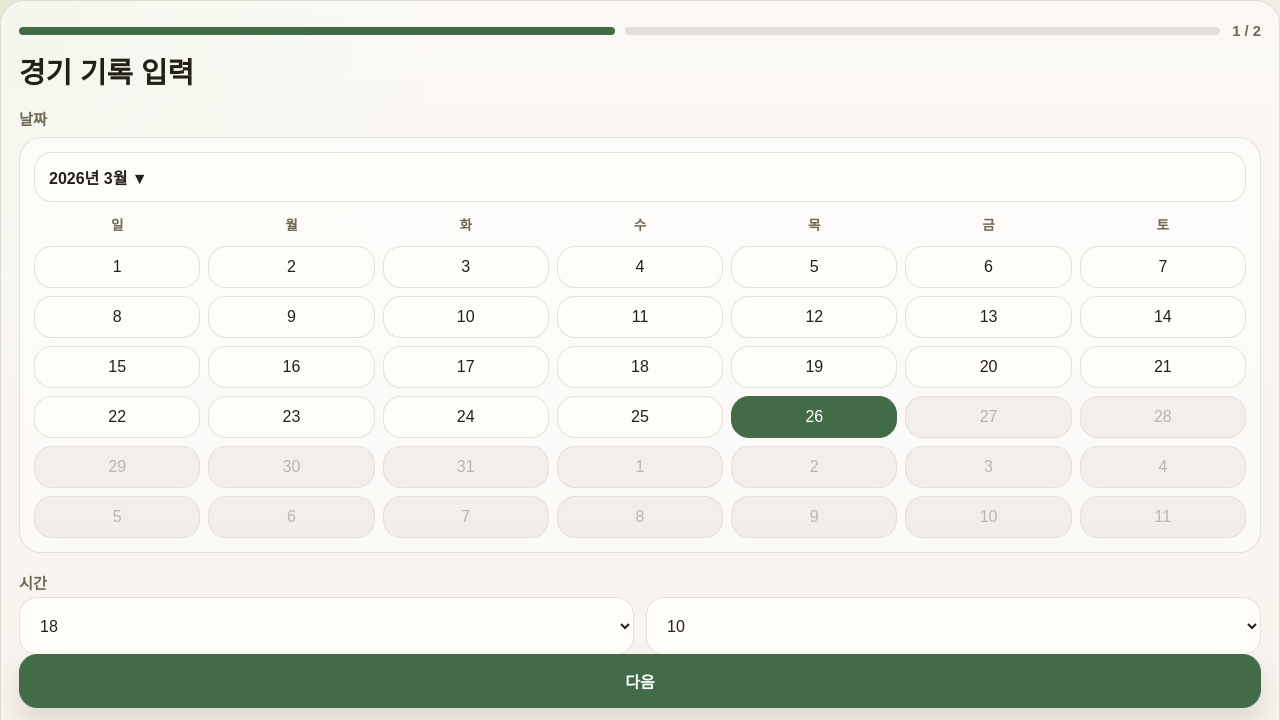
EntryFlowClient › 1단계에서 뒤로가기를 하면 이탈 확인 모달을 보여준다
Select "00" in the 1st dropdown named "시 선택". click: (326, 626)
box: [19, 597, 634, 655]
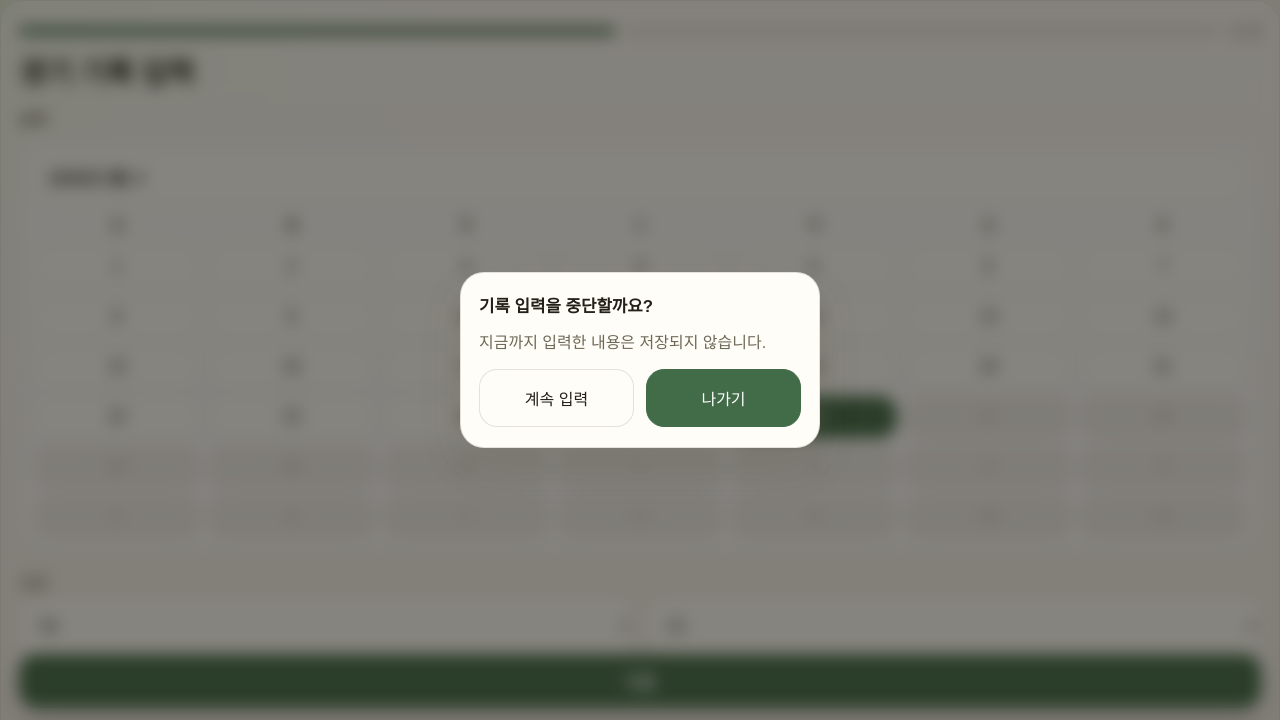
Expected: the dialog named "기록 입력 중단 확인" is shown, [460, 272, 820, 448]
Expected: the text "기록 입력을 중단할까요?" is shown, [479, 297, 653, 316]
